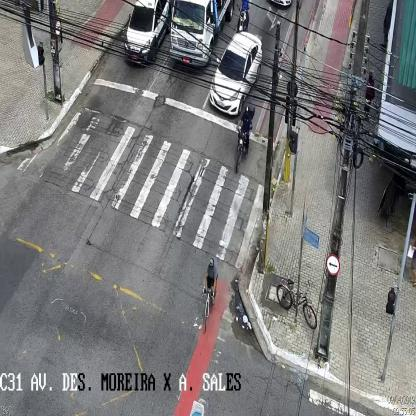bicycle: (276, 278, 317, 330), (203, 258, 217, 333)
car: (209, 31, 262, 117), (123, 3, 170, 66)
motorbike: (235, 106, 255, 172)
person: (364, 70, 374, 116)
truck: (171, 1, 234, 67)
